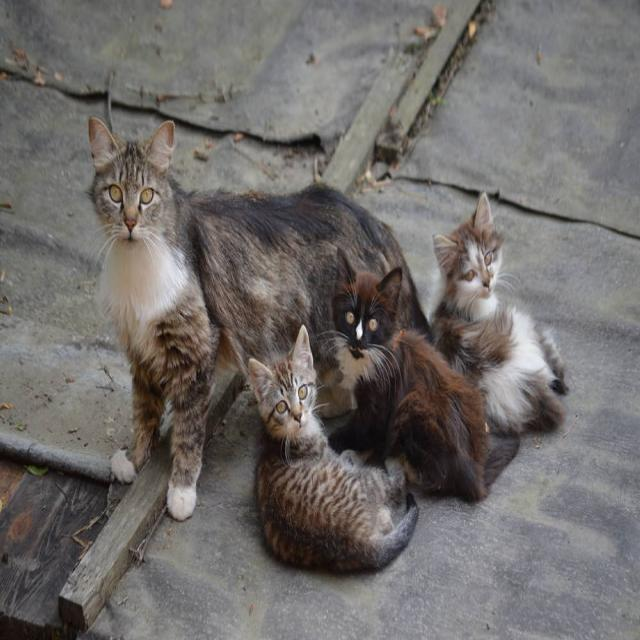cat: (89, 119, 428, 520), (330, 250, 519, 500), (249, 325, 419, 570), (430, 192, 568, 433)
